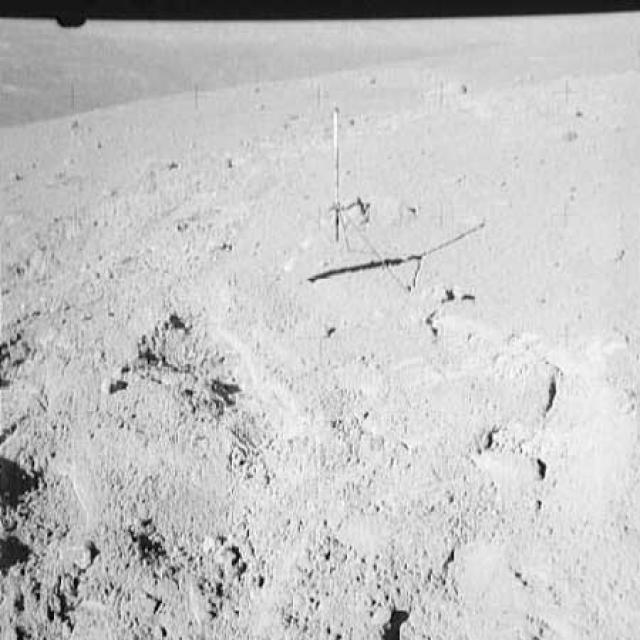artifact: (255, 105, 422, 299)
rock: (418, 74, 470, 106)
